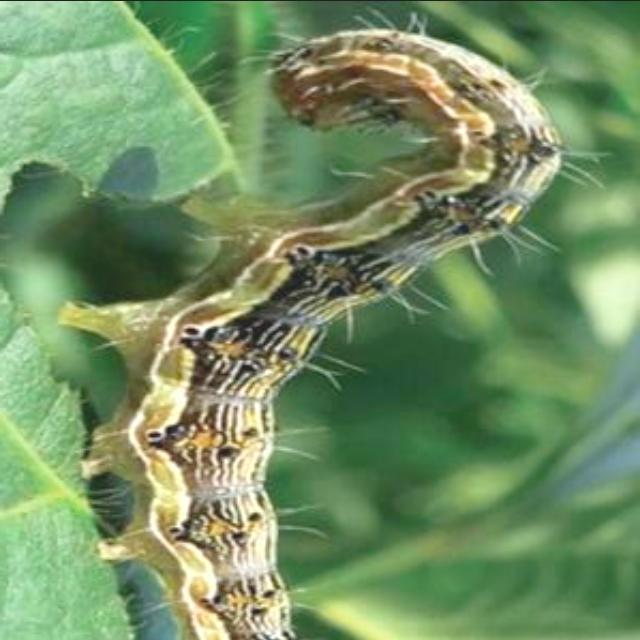Cotton bollworm: (46, 18, 602, 640)
